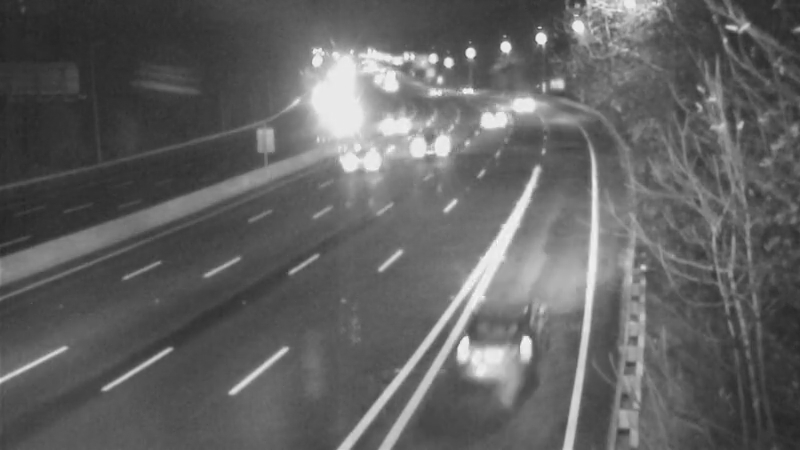vehicle: (428, 298, 538, 408), (316, 118, 396, 198), (447, 66, 497, 116), (408, 71, 458, 121), (497, 82, 547, 132), (468, 87, 518, 137), (375, 97, 425, 147), (401, 121, 451, 171), (317, 95, 367, 145)
